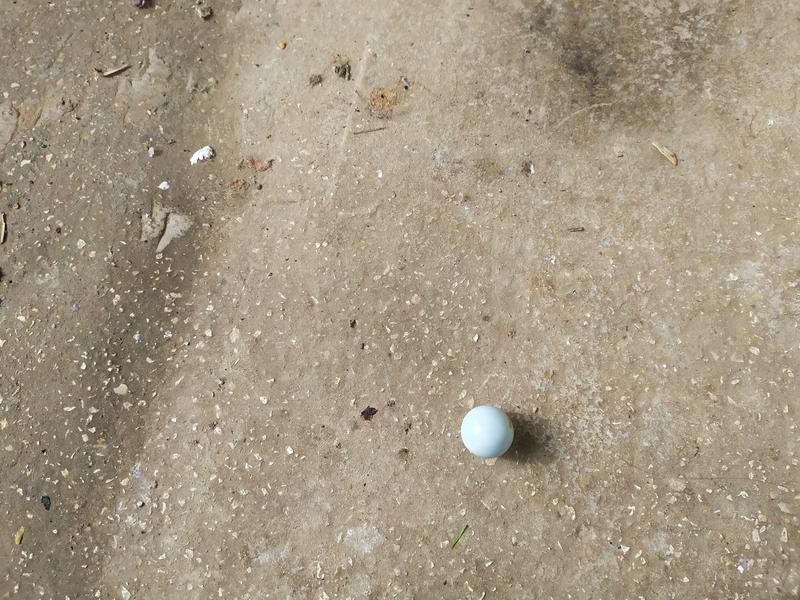Warning: (459, 403, 517, 461)
